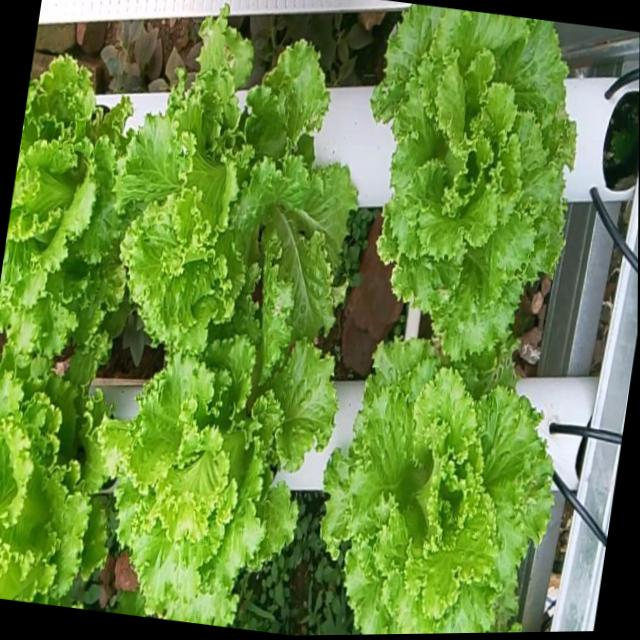Mature: (111, 8, 352, 335), (366, 4, 569, 365), (102, 305, 329, 624), (312, 335, 543, 635), (0, 42, 125, 345), (0, 337, 97, 604)
